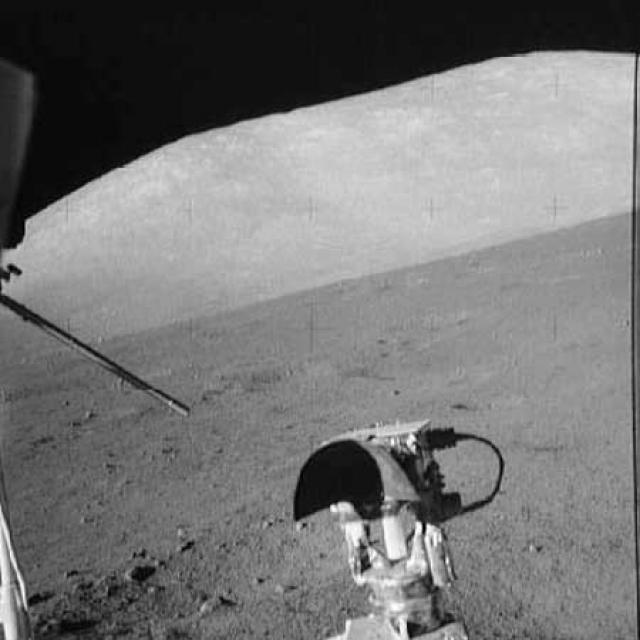artifact: (0, 11, 191, 434), (274, 410, 515, 638), (0, 468, 41, 638)
crater: (226, 354, 321, 396), (377, 300, 471, 334)
